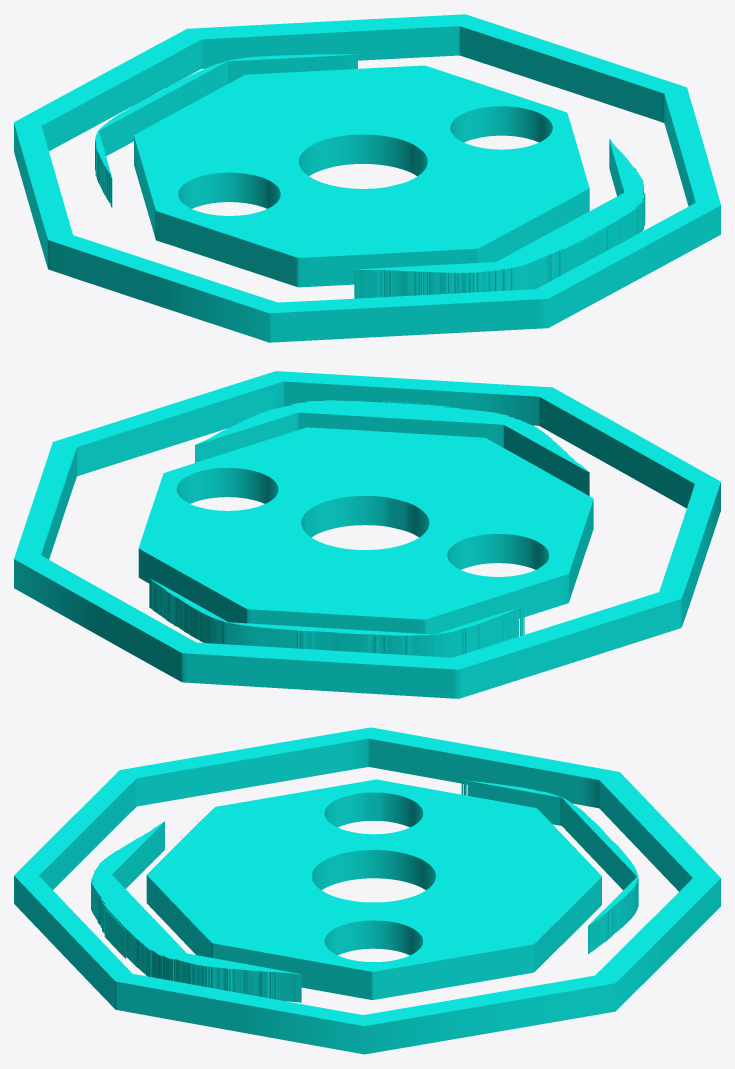
Rendered from poweruptirotriplo.fbx.
3 renders of one model, top to bottom at view 1: azimuth 30°, elevation 25°; view 2: azimuth 150°, elevation 25°; view 3: azimuth 270°, elevation 25°, orthographic. The views are drawn at different scales.
Visible parts, largest first — view 1: path2348; view 2: path2348; view 3: path2348.
Boxes of the visible parts, x1=… form: path2348: x1=14, y1=14, x2=720, y2=342; path2348: x1=14, y1=371, x2=720, y2=698; path2348: x1=14, y1=727, x2=720, y2=1054.
Size of the model in its own units: 1112 by 49.15 by 1112.
